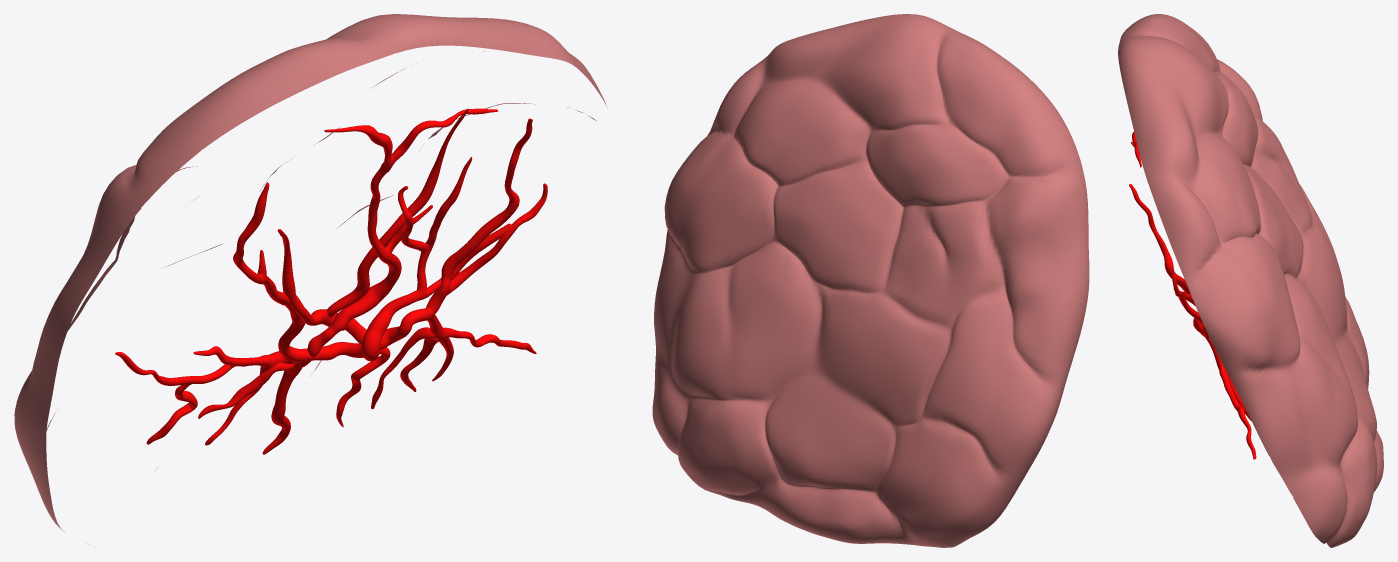
Rendered from 3d-vh-f-placenta-landmark.glb.
3 renders of one model, left to right at view 1: azimuth 30°, elevation 25°; view 2: azimuth 150°, elevation 25°; view 3: azimuth 270°, elevation 25°, orthographic. The views are drawn at different scales.
Visible parts, largest first — view 1: VH_F_placenta_landmark_basal_plate, VH_F_placenta_landmark_placenta_vessels; view 2: VH_F_placenta_landmark_basal_plate; view 3: VH_F_placenta_landmark_basal_plate, VH_F_placenta_landmark_placenta_vessels.
Part boxes in pixels (box(x1,y1,x2,y2)): VH_F_placenta_landmark_basal_plate: box(14, 14, 607, 544); VH_F_placenta_landmark_placenta_vessels: box(115, 108, 547, 454); VH_F_placenta_landmark_basal_plate: box(652, 14, 1089, 547); VH_F_placenta_landmark_basal_plate: box(1118, 14, 1383, 547); VH_F_placenta_landmark_placenta_vessels: box(1129, 131, 1256, 459).
Size of the model in its own units: 0.1977 by 0.2001 by 0.106.
